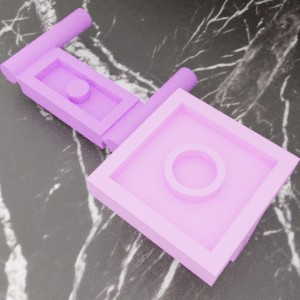lego: (86, 87, 299, 286), (0, 8, 197, 158)
